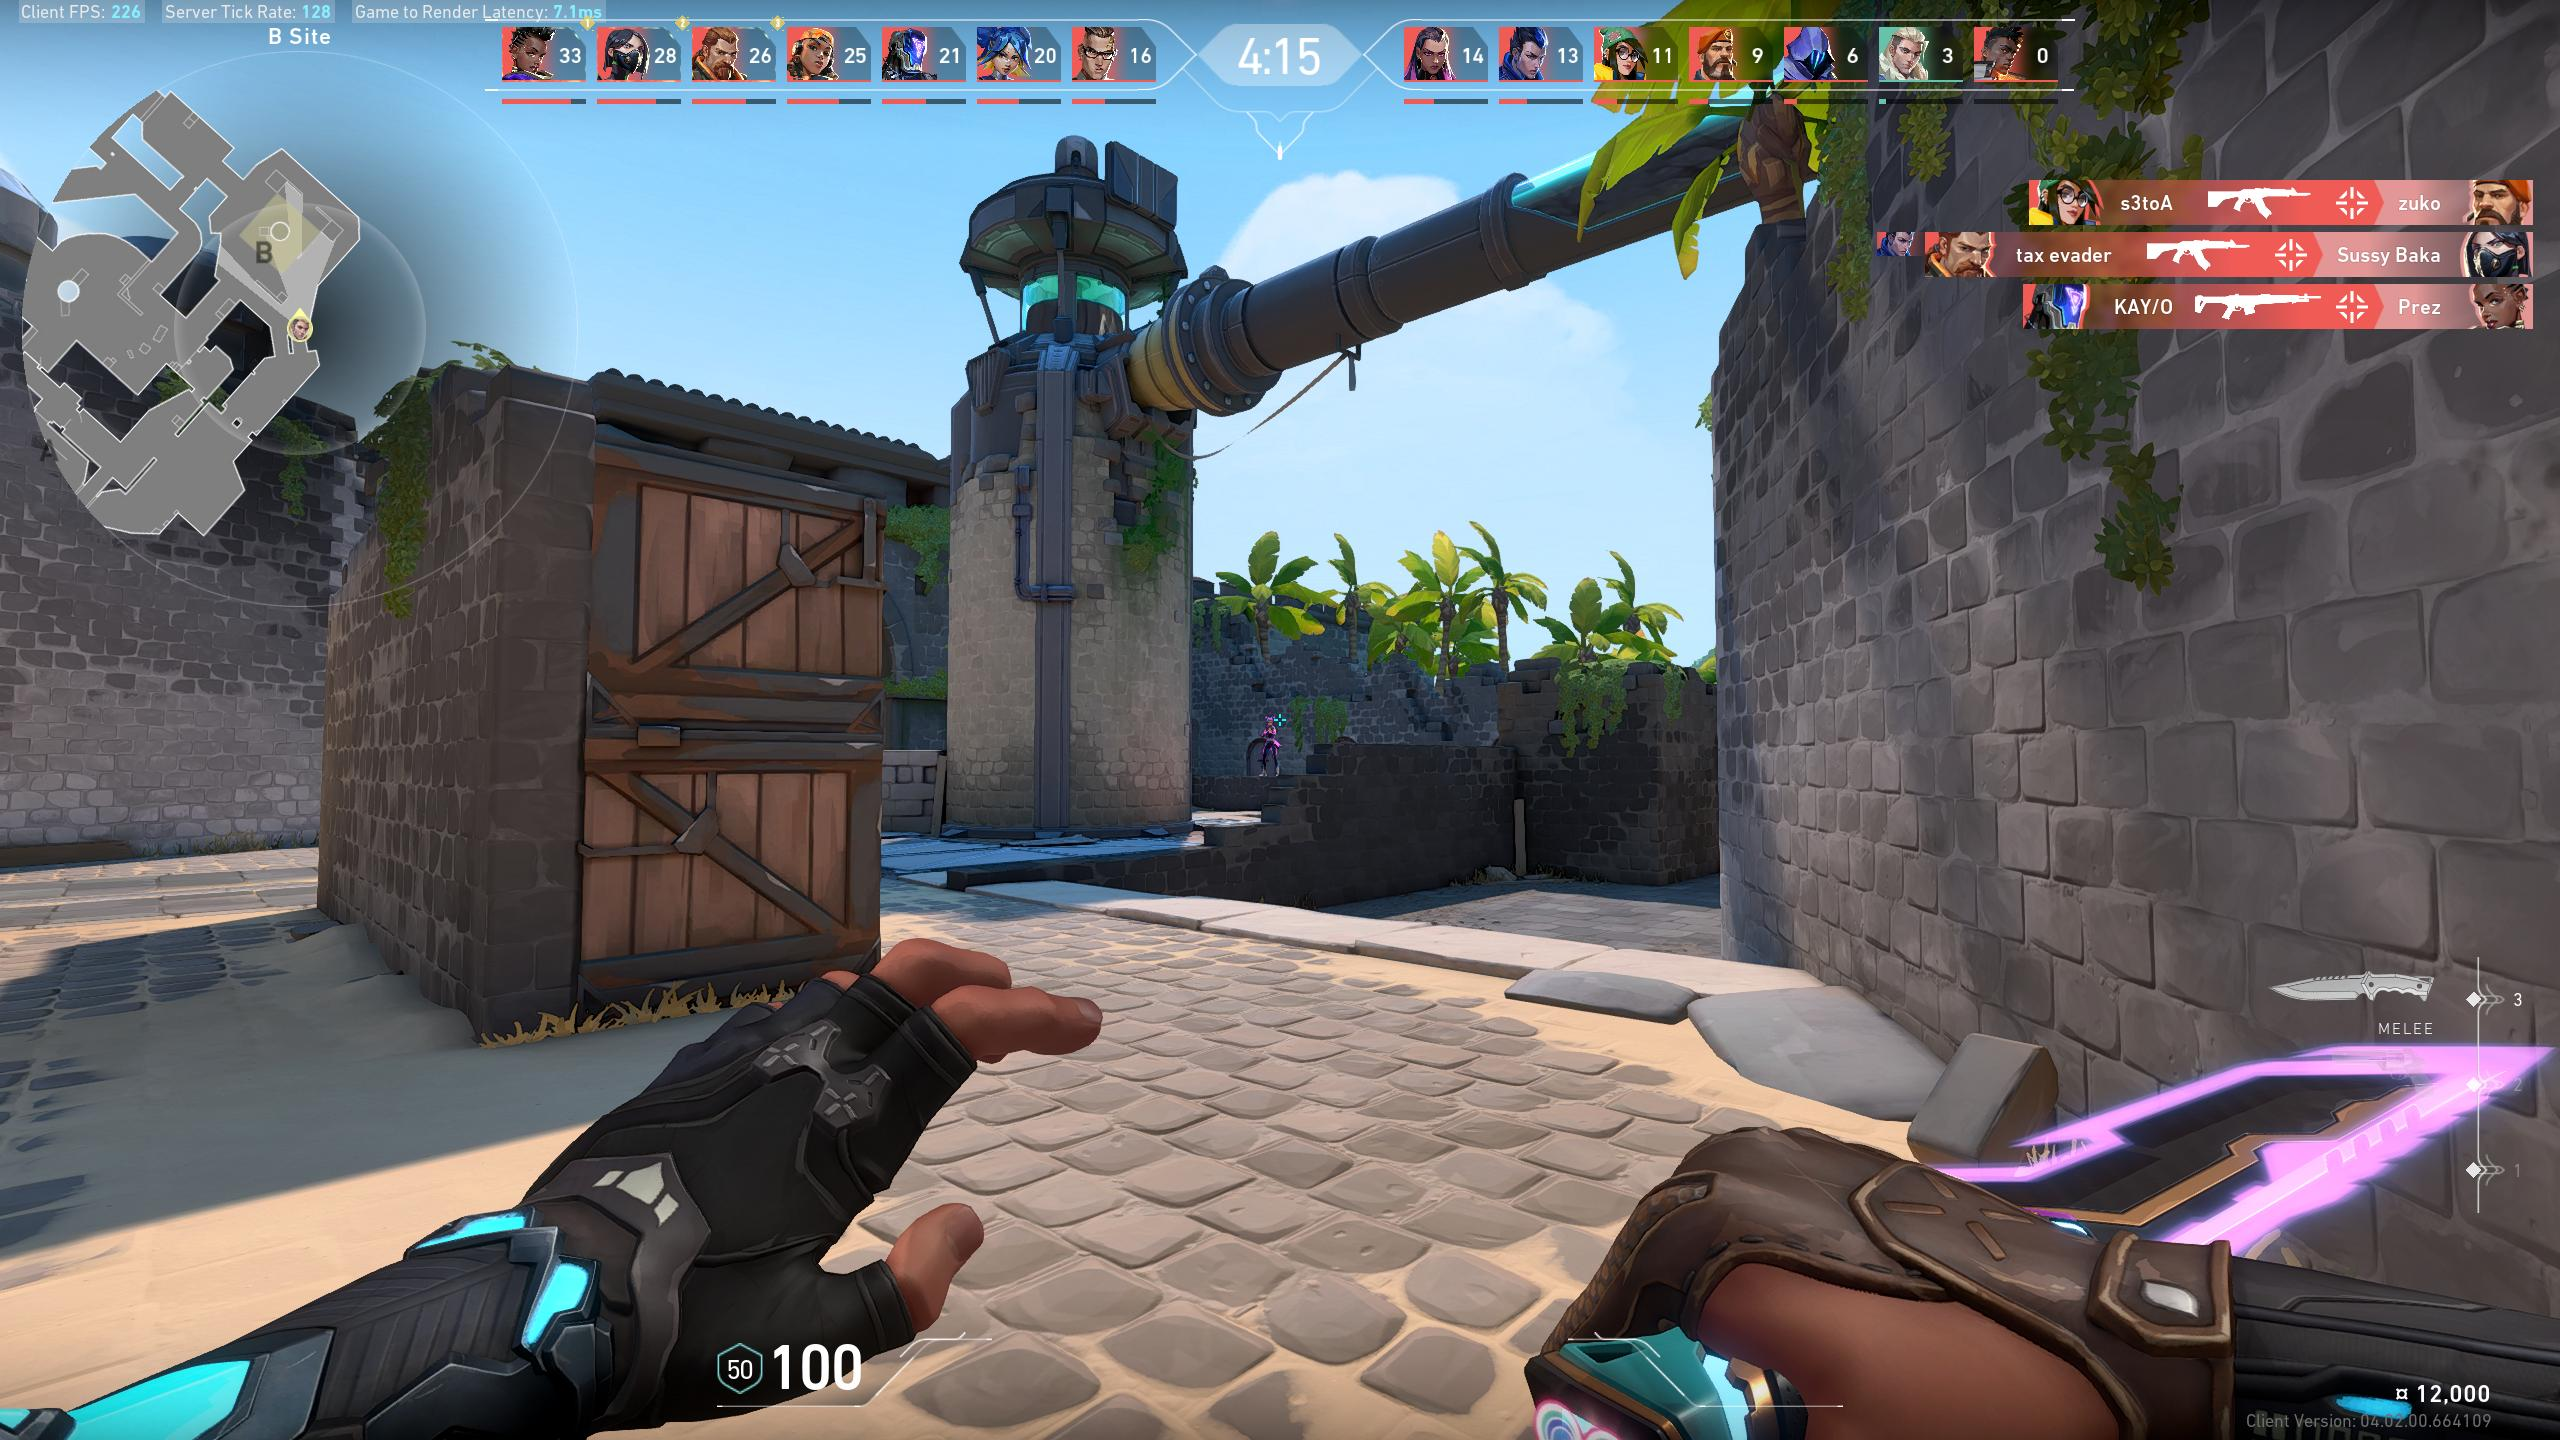enemyBody: (1266, 728, 1275, 744)
enemyHead: (1268, 721, 1271, 724)
